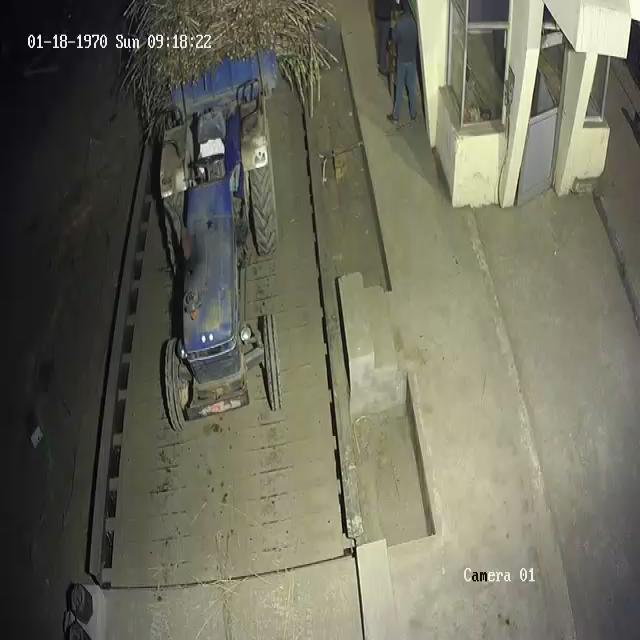Tratores - v5 YOLO V8L 2024-11-13: (154, 95, 282, 426)
